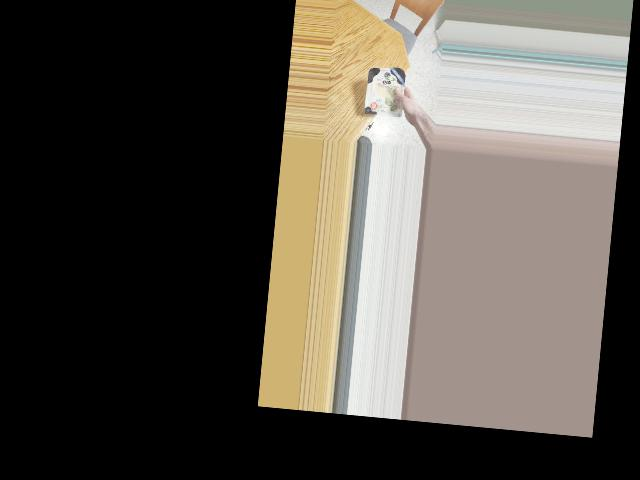cheese: (364, 65, 409, 120)
